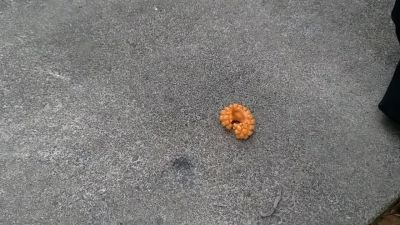eggs: (218, 103, 256, 140)
